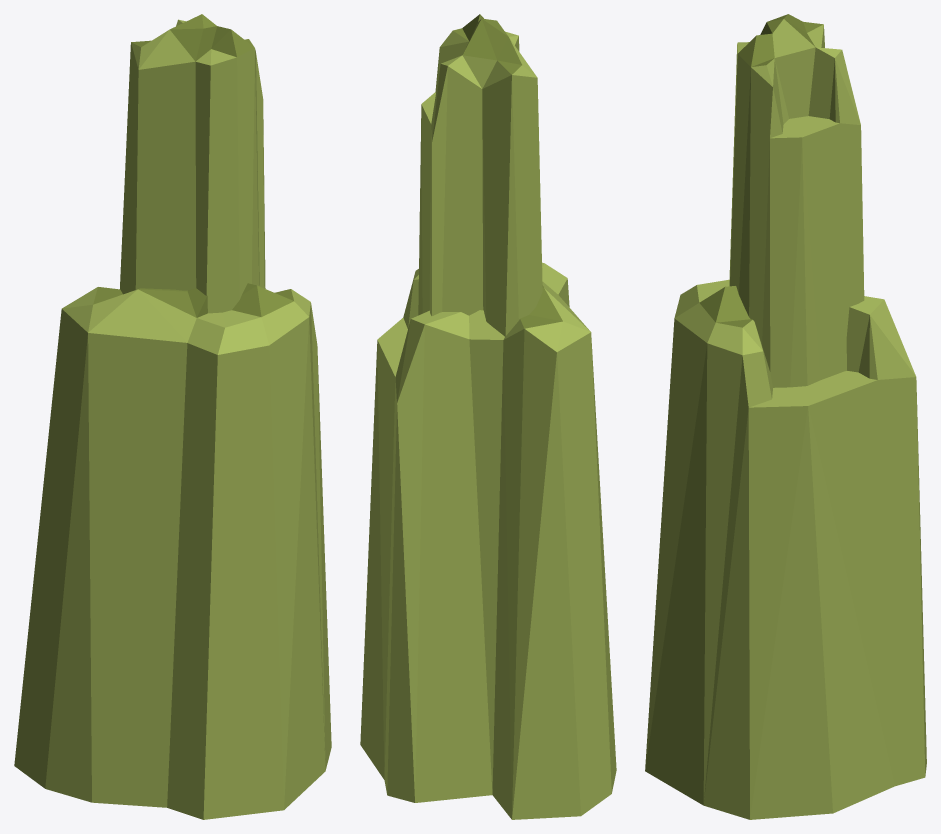
Rendered from EA03_Nature_Bush_05b.glb.
3 views of the same model, side by side, from view 1: azimuth 30°, elevation 25°; view 2: azimuth 150°, elevation 25°; view 3: azimuth 270°, elevation 25° (orthographic). The views are drawn at different scales.
Parts seen in each view (by area): view 1: EA03_Nature_Bush_05b; view 2: EA03_Nature_Bush_05b; view 3: EA03_Nature_Bush_05b.
Boxes of the visible parts, x1,y1,x2,y2 form: EA03_Nature_Bush_05b: (14, 14, 331, 819); EA03_Nature_Bush_05b: (360, 14, 616, 819); EA03_Nature_Bush_05b: (645, 14, 926, 819).
Bounding box in the file's own units: 2.13 × 5.92 × 2.03.
1 material, 1 textured.
